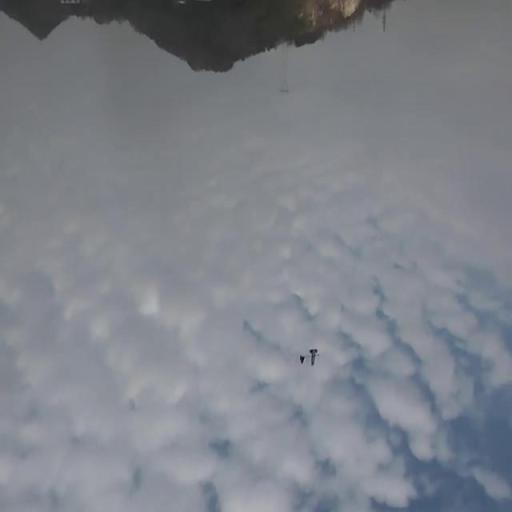uav: (300, 350, 318, 366)
